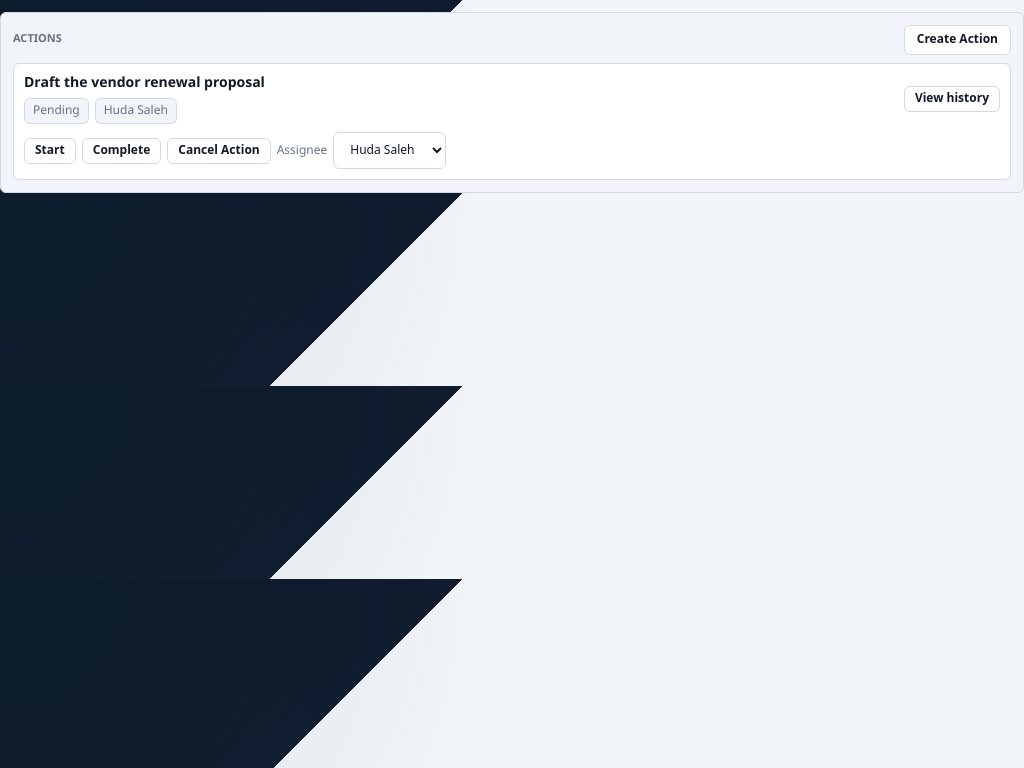
Test: Actions panel - detail / history › renders an assignment change event in human-readable form, Unassigned -> resolved member name
expect the text "Draft the vendor renewal proposal" is shown: met, box x1=24 y1=74 x2=265 y2=94
Click the button "View history" at [952, 99], box x1=904 y1=86 x2=1000 y2=112
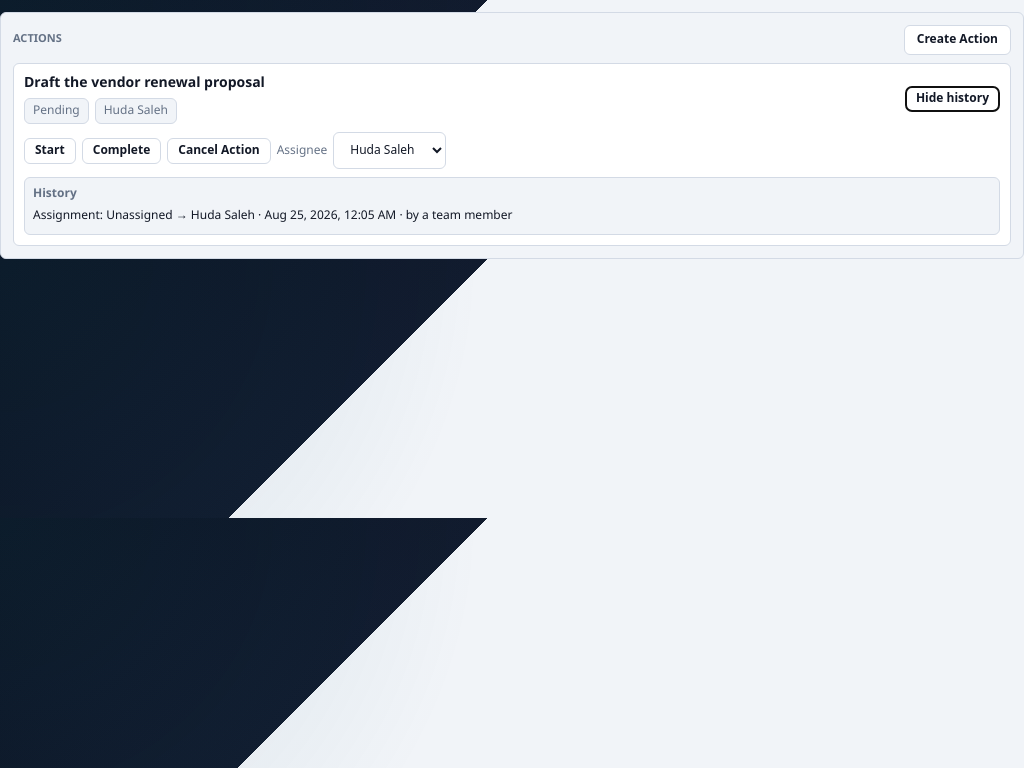
expect the text "Assignment: Unassigned . Huda Saleh" is shown: met, box x1=33 y1=203 x2=512 y2=228
